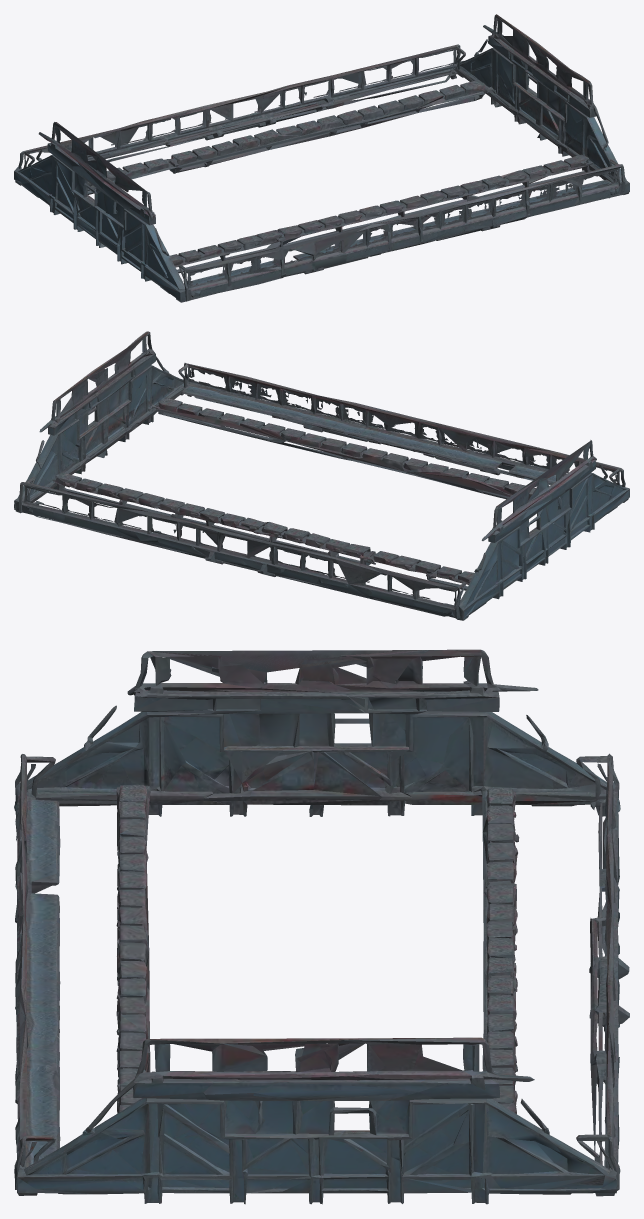
File: mx_du_bleachers.glb
3 views of the same model, one above another, from view 1: azimuth 30°, elevation 25°; view 2: azimuth 150°, elevation 25°; view 3: azimuth 270°, elevation 25° (orthographic). The views are drawn at different scales.
Bounding box in the file's own units: 1.9 × 0.3683 × 1.25.
1 material, 1 textured.
